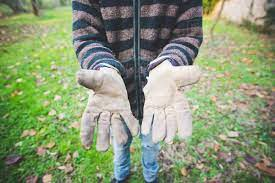No-jacket: (68, 1, 205, 66)
gloves: (76, 68, 202, 150)
